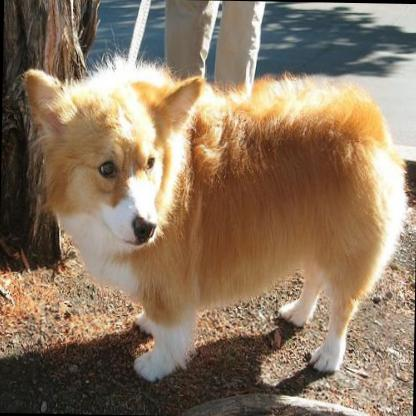Pembroke: (15, 37, 408, 390)
